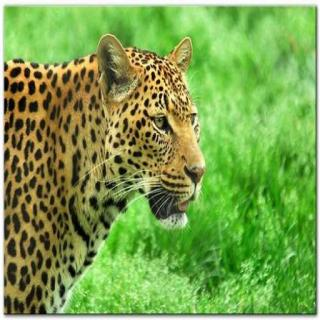Leopard: (4, 12, 207, 320)
